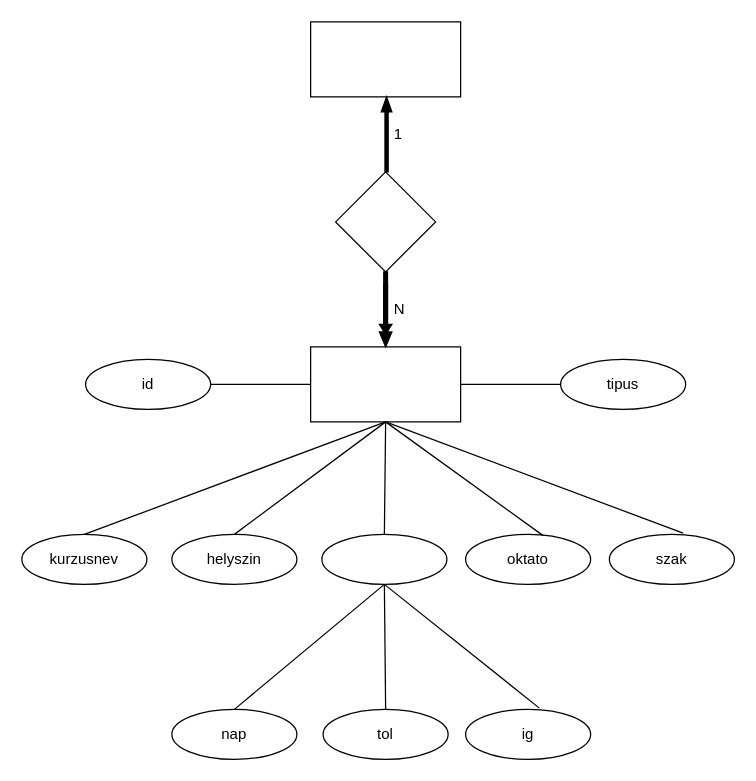
This 756x781 diagram has some shape labels left out. Each missing label, with the centre of its shape:
"idopont" belongs at point 384,558.
"ora" belongs at point 385,384.
"P-O" belongs at point 385,221.
"PLUJH5_orarend" belongs at point 385,59.
